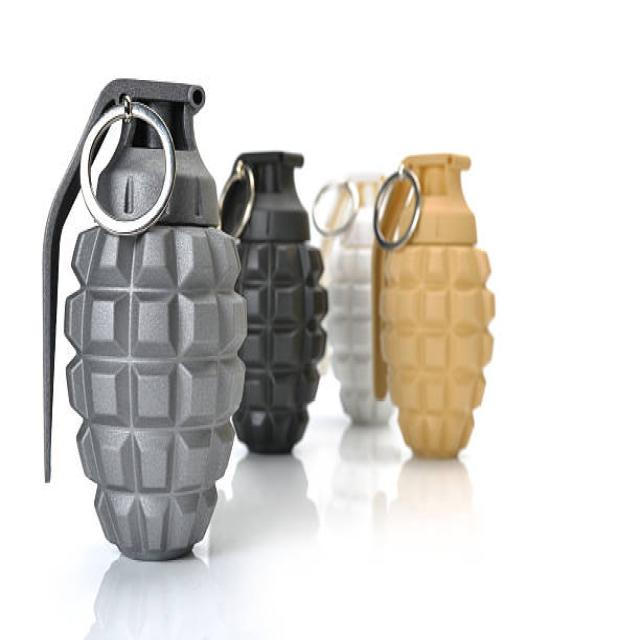grenade: (34, 71, 253, 567), (368, 149, 498, 466), (224, 146, 333, 466)
